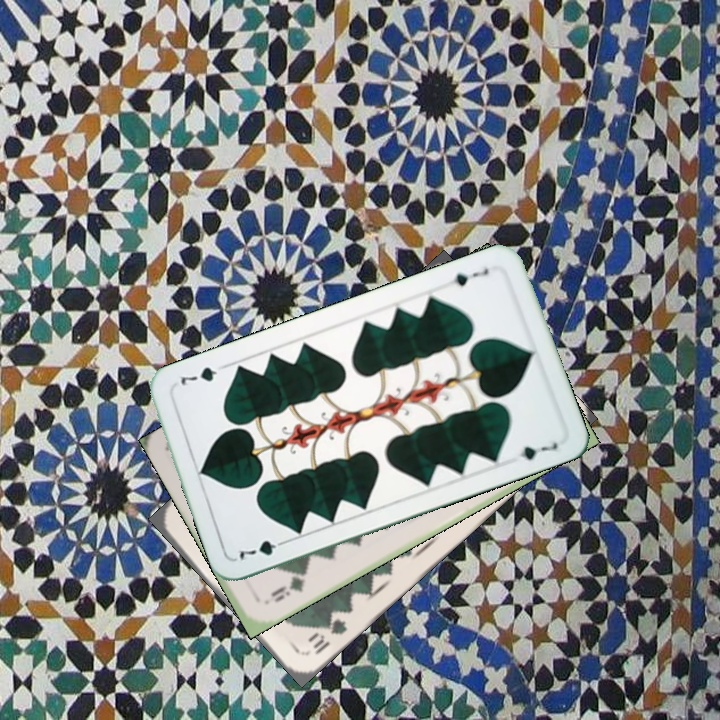G10: (303, 606, 350, 658)
G7: (233, 535, 291, 563), (449, 264, 492, 289)
G9: (267, 567, 310, 605)
